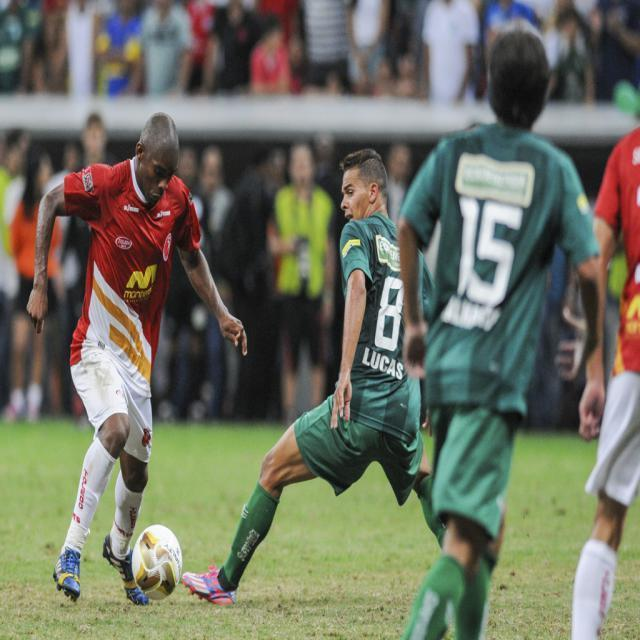football: (116, 523, 197, 603)
